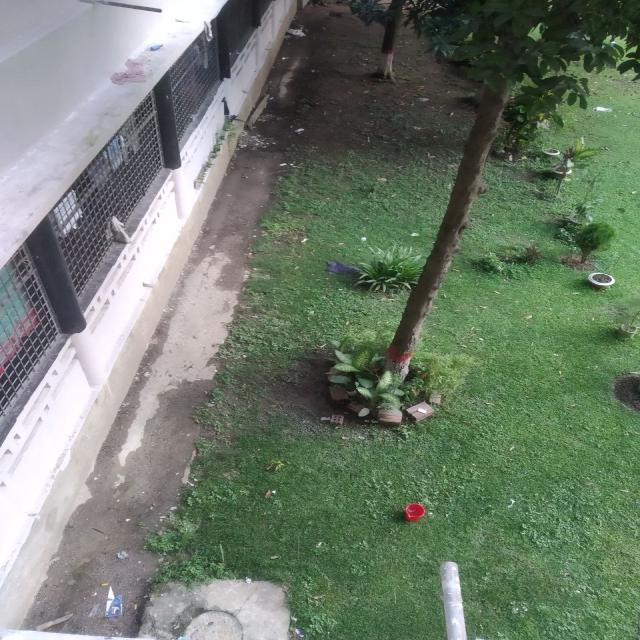Breeding Place: (219, 3, 342, 193), (318, 337, 472, 427), (395, 494, 441, 534), (582, 265, 619, 294), (609, 316, 640, 343), (548, 161, 582, 181), (538, 142, 564, 160)
